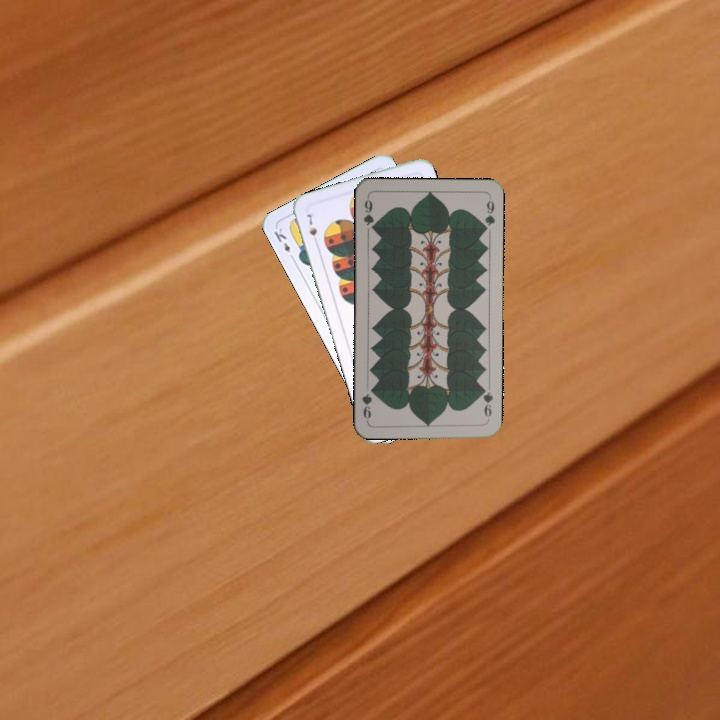EK: (270, 224, 297, 263)
G9: (359, 193, 378, 234), (478, 383, 495, 419)
S7: (303, 210, 321, 248)
